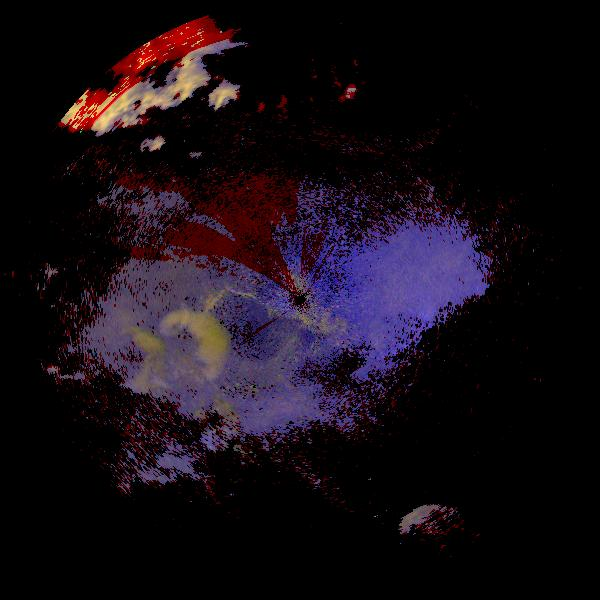roost: (88, 270, 262, 444), (365, 464, 512, 600)
